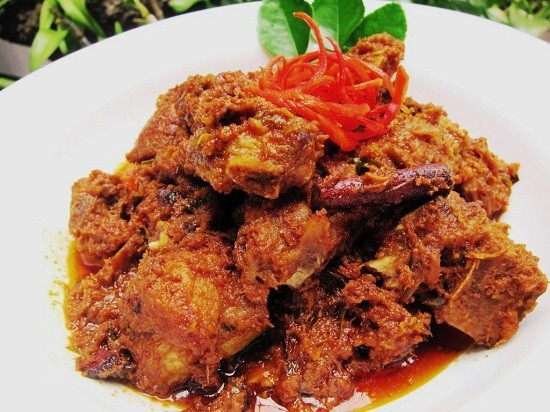rendang: (48, 48, 550, 405)
